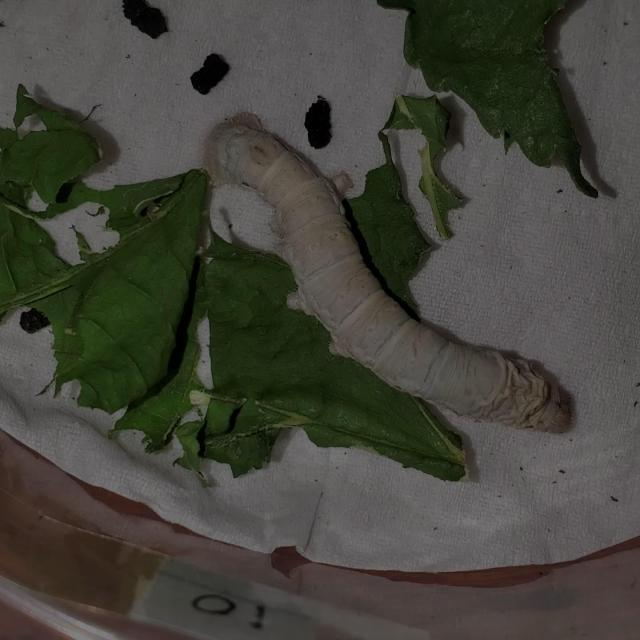Healthy: (163, 91, 596, 462)
